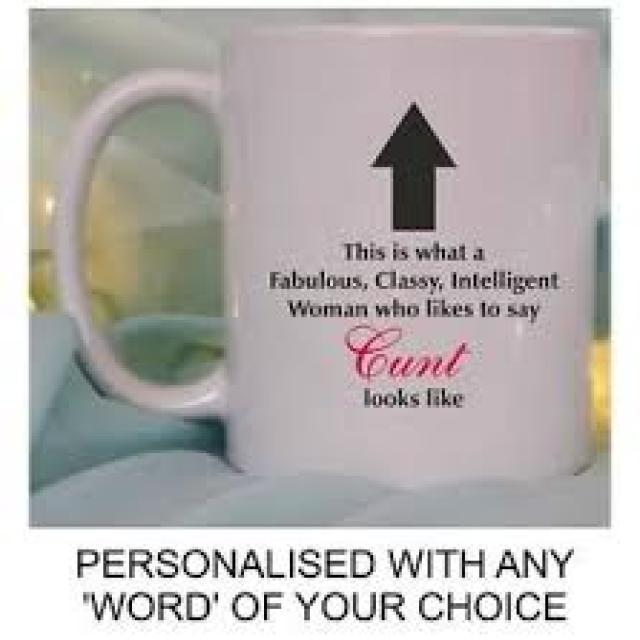taza: (46, 17, 612, 486)
